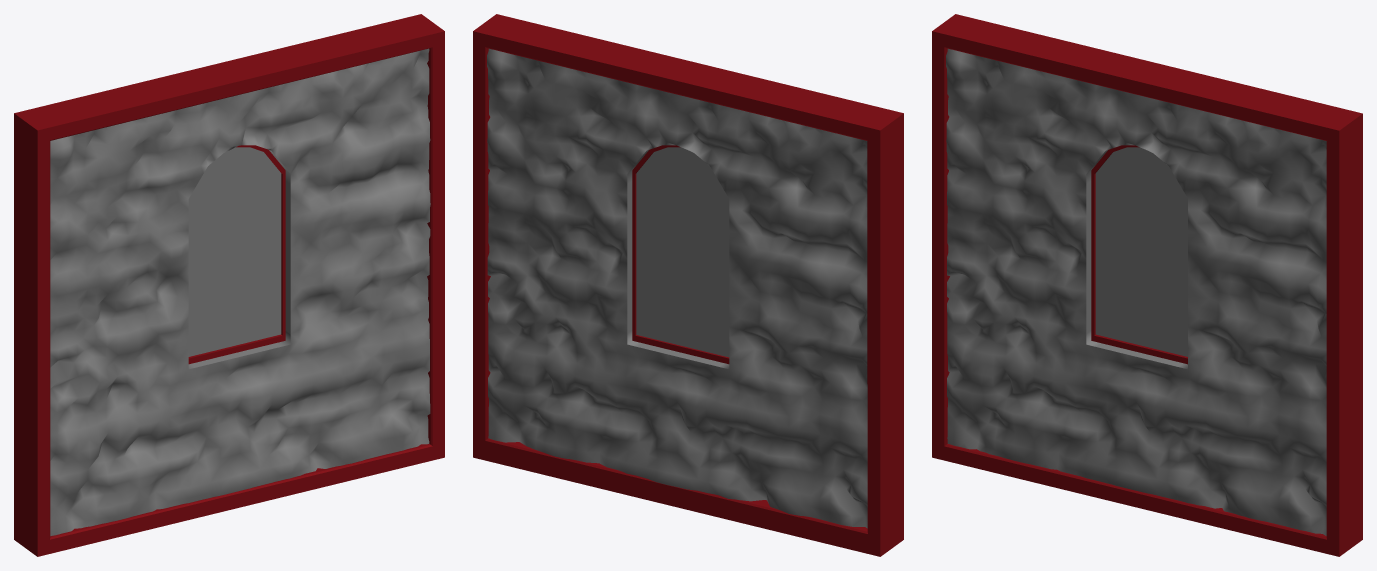
Rendered from SM_MH_01_Stone_Wall_Window_02.fbx.
The picture shows the model from 3 angles, left to right: view 1: azimuth 30°, elevation 25°; view 2: azimuth 150°, elevation 25°; view 3: azimuth 330°, elevation 25°; orthographic projection.
Parts seen in each view (by area): view 1: SM_MH_01_Stone_Wall_Window_02_LOD0, SM_MH_01_Stone_Wall_Window_02W_LOD0; view 2: SM_MH_01_Stone_Wall_Window_02_LOD0, SM_MH_01_Stone_Wall_Window_02W_LOD0; view 3: SM_MH_01_Stone_Wall_Window_02_LOD0, SM_MH_01_Stone_Wall_Window_02W_LOD0.
Part boxes in pixels (<box>): SM_MH_01_Stone_Wall_Window_02_LOD0: <box>14,14,444,556</box>; SM_MH_01_Stone_Wall_Window_02W_LOD0: <box>188,147,281,356</box>; SM_MH_01_Stone_Wall_Window_02_LOD0: <box>473,14,903,556</box>; SM_MH_01_Stone_Wall_Window_02W_LOD0: <box>636,147,729,357</box>; SM_MH_01_Stone_Wall_Window_02_LOD0: <box>932,14,1362,556</box>; SM_MH_01_Stone_Wall_Window_02W_LOD0: <box>1095,147,1187,356</box>.
Size of what is drawn, in the model's own units: 300 by 300 by 37.46.
